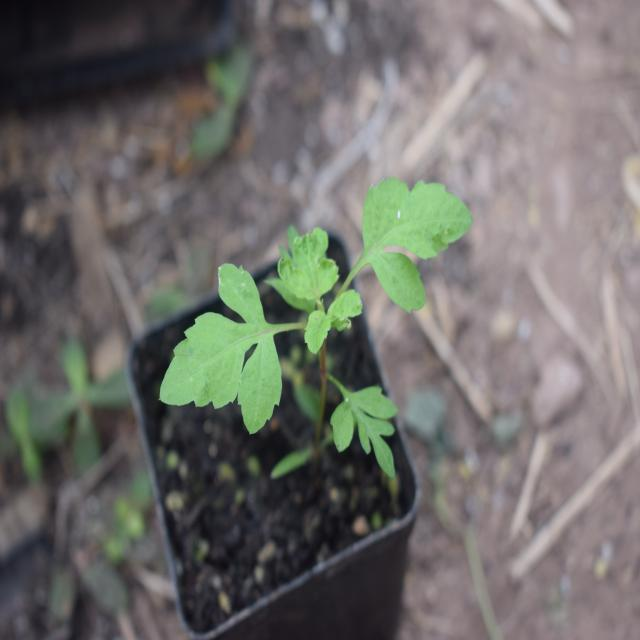Bidens pilosa: (154, 160, 498, 482)
